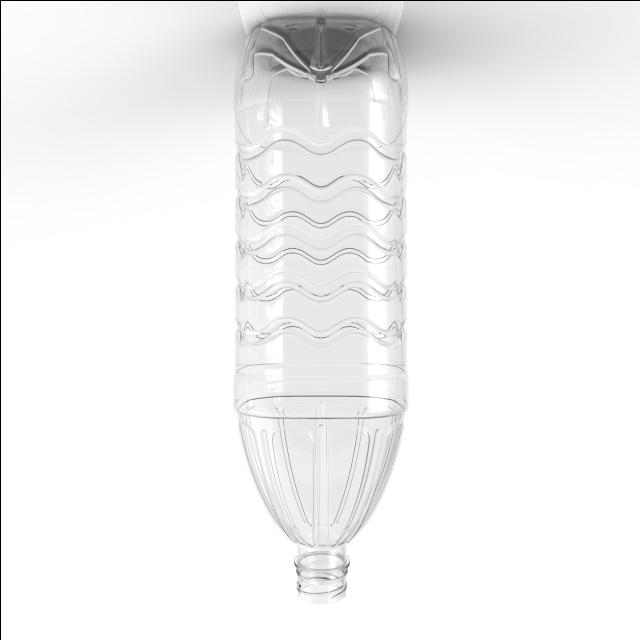bottom: (211, 0, 422, 131)
no_cap: (282, 541, 352, 608)
